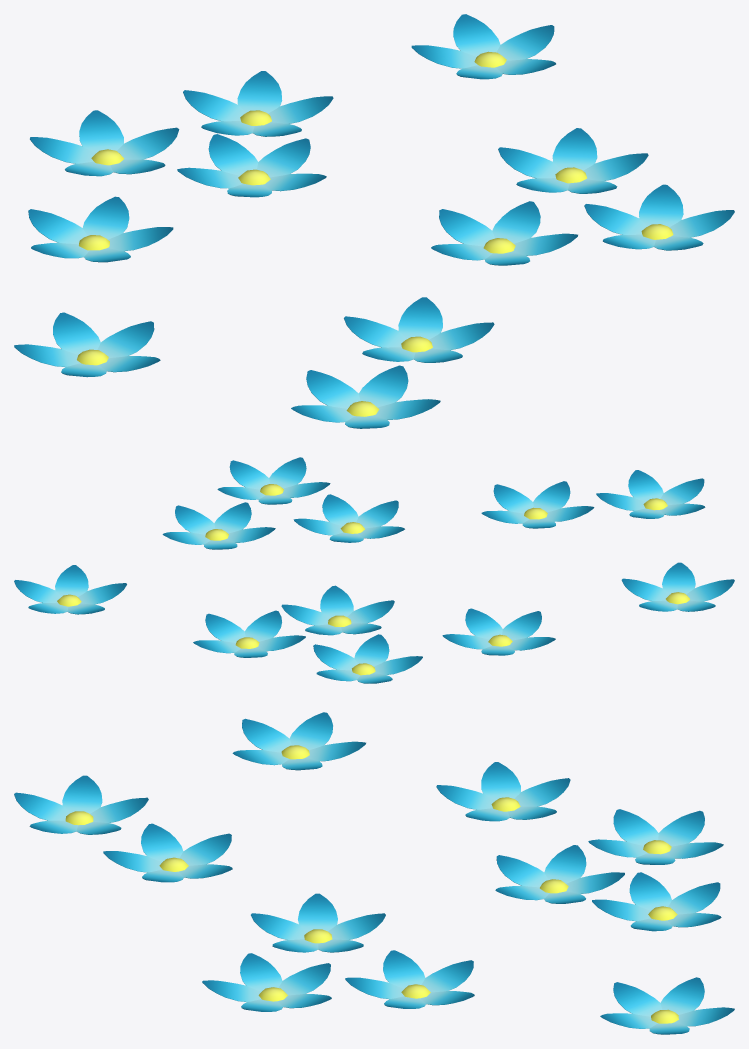
File: Blue_Patch.fbx
The picture shows the model from 3 angles, top to bottom: view 1: azimuth 30°, elevation 25°; view 2: azimuth 150°, elevation 25°; view 3: azimuth 270°, elevation 25°; orthographic projection. The views are drawn at different scales.
Visible parts, largest first — view 1: pasted__Flower8, pasted__Flower14, pasted__Flower11, pasted__Flower16, pasted__Flower9, pasted__Flower10, pasted__Flower13, pasted__Flower12, pasted__Flower15, pasted__Flower7, pasted__Flower17; view 2: pasted__Flower17, pasted__Flower13, pasted__Flower9, pasted__Flower7, pasted__Flower16, pasted__Flower11, pasted__Flower15, pasted__Flower8, pasted__Flower14, pasted__Flower12, pasted__Flower10; view 3: pasted__Flower7, pasted__Flower9, pasted__Flower15, pasted__Flower13, pasted__Flower14, pasted__Flower16, pasted__Flower11, pasted__Flower10, pasted__Flower8, pasted__Flower12, pasted__Flower17.
Boxes of the visible parts, bbox=[...] form: pasted__Flower8: bbox=[177, 134, 326, 197]; pasted__Flower14: bbox=[291, 365, 440, 428]; pasted__Flower11: bbox=[431, 201, 577, 265]; pasted__Flower16: bbox=[28, 196, 173, 262]; pasted__Flower9: bbox=[183, 71, 333, 136]; pasted__Flower10: bbox=[584, 184, 734, 250]; pasted__Flower13: bbox=[411, 14, 555, 79]; pasted__Flower12: bbox=[498, 128, 648, 193]; pasted__Flower15: bbox=[344, 297, 494, 362]; pasted__Flower7: bbox=[30, 110, 179, 176]; pasted__Flower17: bbox=[14, 312, 160, 377]; pasted__Flower17: bbox=[621, 562, 734, 611]; pasted__Flower13: bbox=[14, 565, 126, 614]; pasted__Flower9: bbox=[193, 610, 305, 657]; pasted__Flower7: bbox=[313, 634, 422, 683]; pasted__Flower16: bbox=[442, 608, 555, 655]; pasted__Flower11: bbox=[293, 494, 404, 542]; pasted__Flower15: bbox=[481, 481, 594, 528]; pasted__Flower8: bbox=[281, 585, 394, 635]; pasted__Flower14: bbox=[596, 470, 705, 518]; pasted__Flower12: bbox=[162, 502, 275, 549]; pasted__Flower10: bbox=[217, 457, 330, 504]; pasted__Flower7: bbox=[588, 809, 723, 864]; pasted__Flower9: bbox=[592, 872, 721, 931]; pasted__Flower15: bbox=[103, 823, 232, 882]; pasted__Flower13: bbox=[600, 977, 734, 1034]; pasted__Flower14: bbox=[14, 775, 148, 834]; pasted__Flower16: bbox=[436, 762, 570, 821]; pasted__Flower11: bbox=[251, 893, 385, 952]; pasted__Flower10: bbox=[202, 953, 331, 1011]; pasted__Flower8: bbox=[495, 845, 624, 903]; pasted__Flower12: bbox=[345, 950, 474, 1008]; pasted__Flower17: bbox=[232, 712, 365, 770].
Size of the model in its own units: 67.67 by 1.41 by 64.1.
